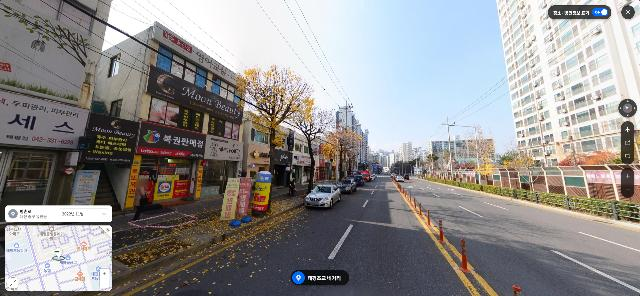ginkgo: (227, 62, 317, 202), (284, 105, 337, 193), (324, 123, 363, 183), (464, 123, 497, 191)
